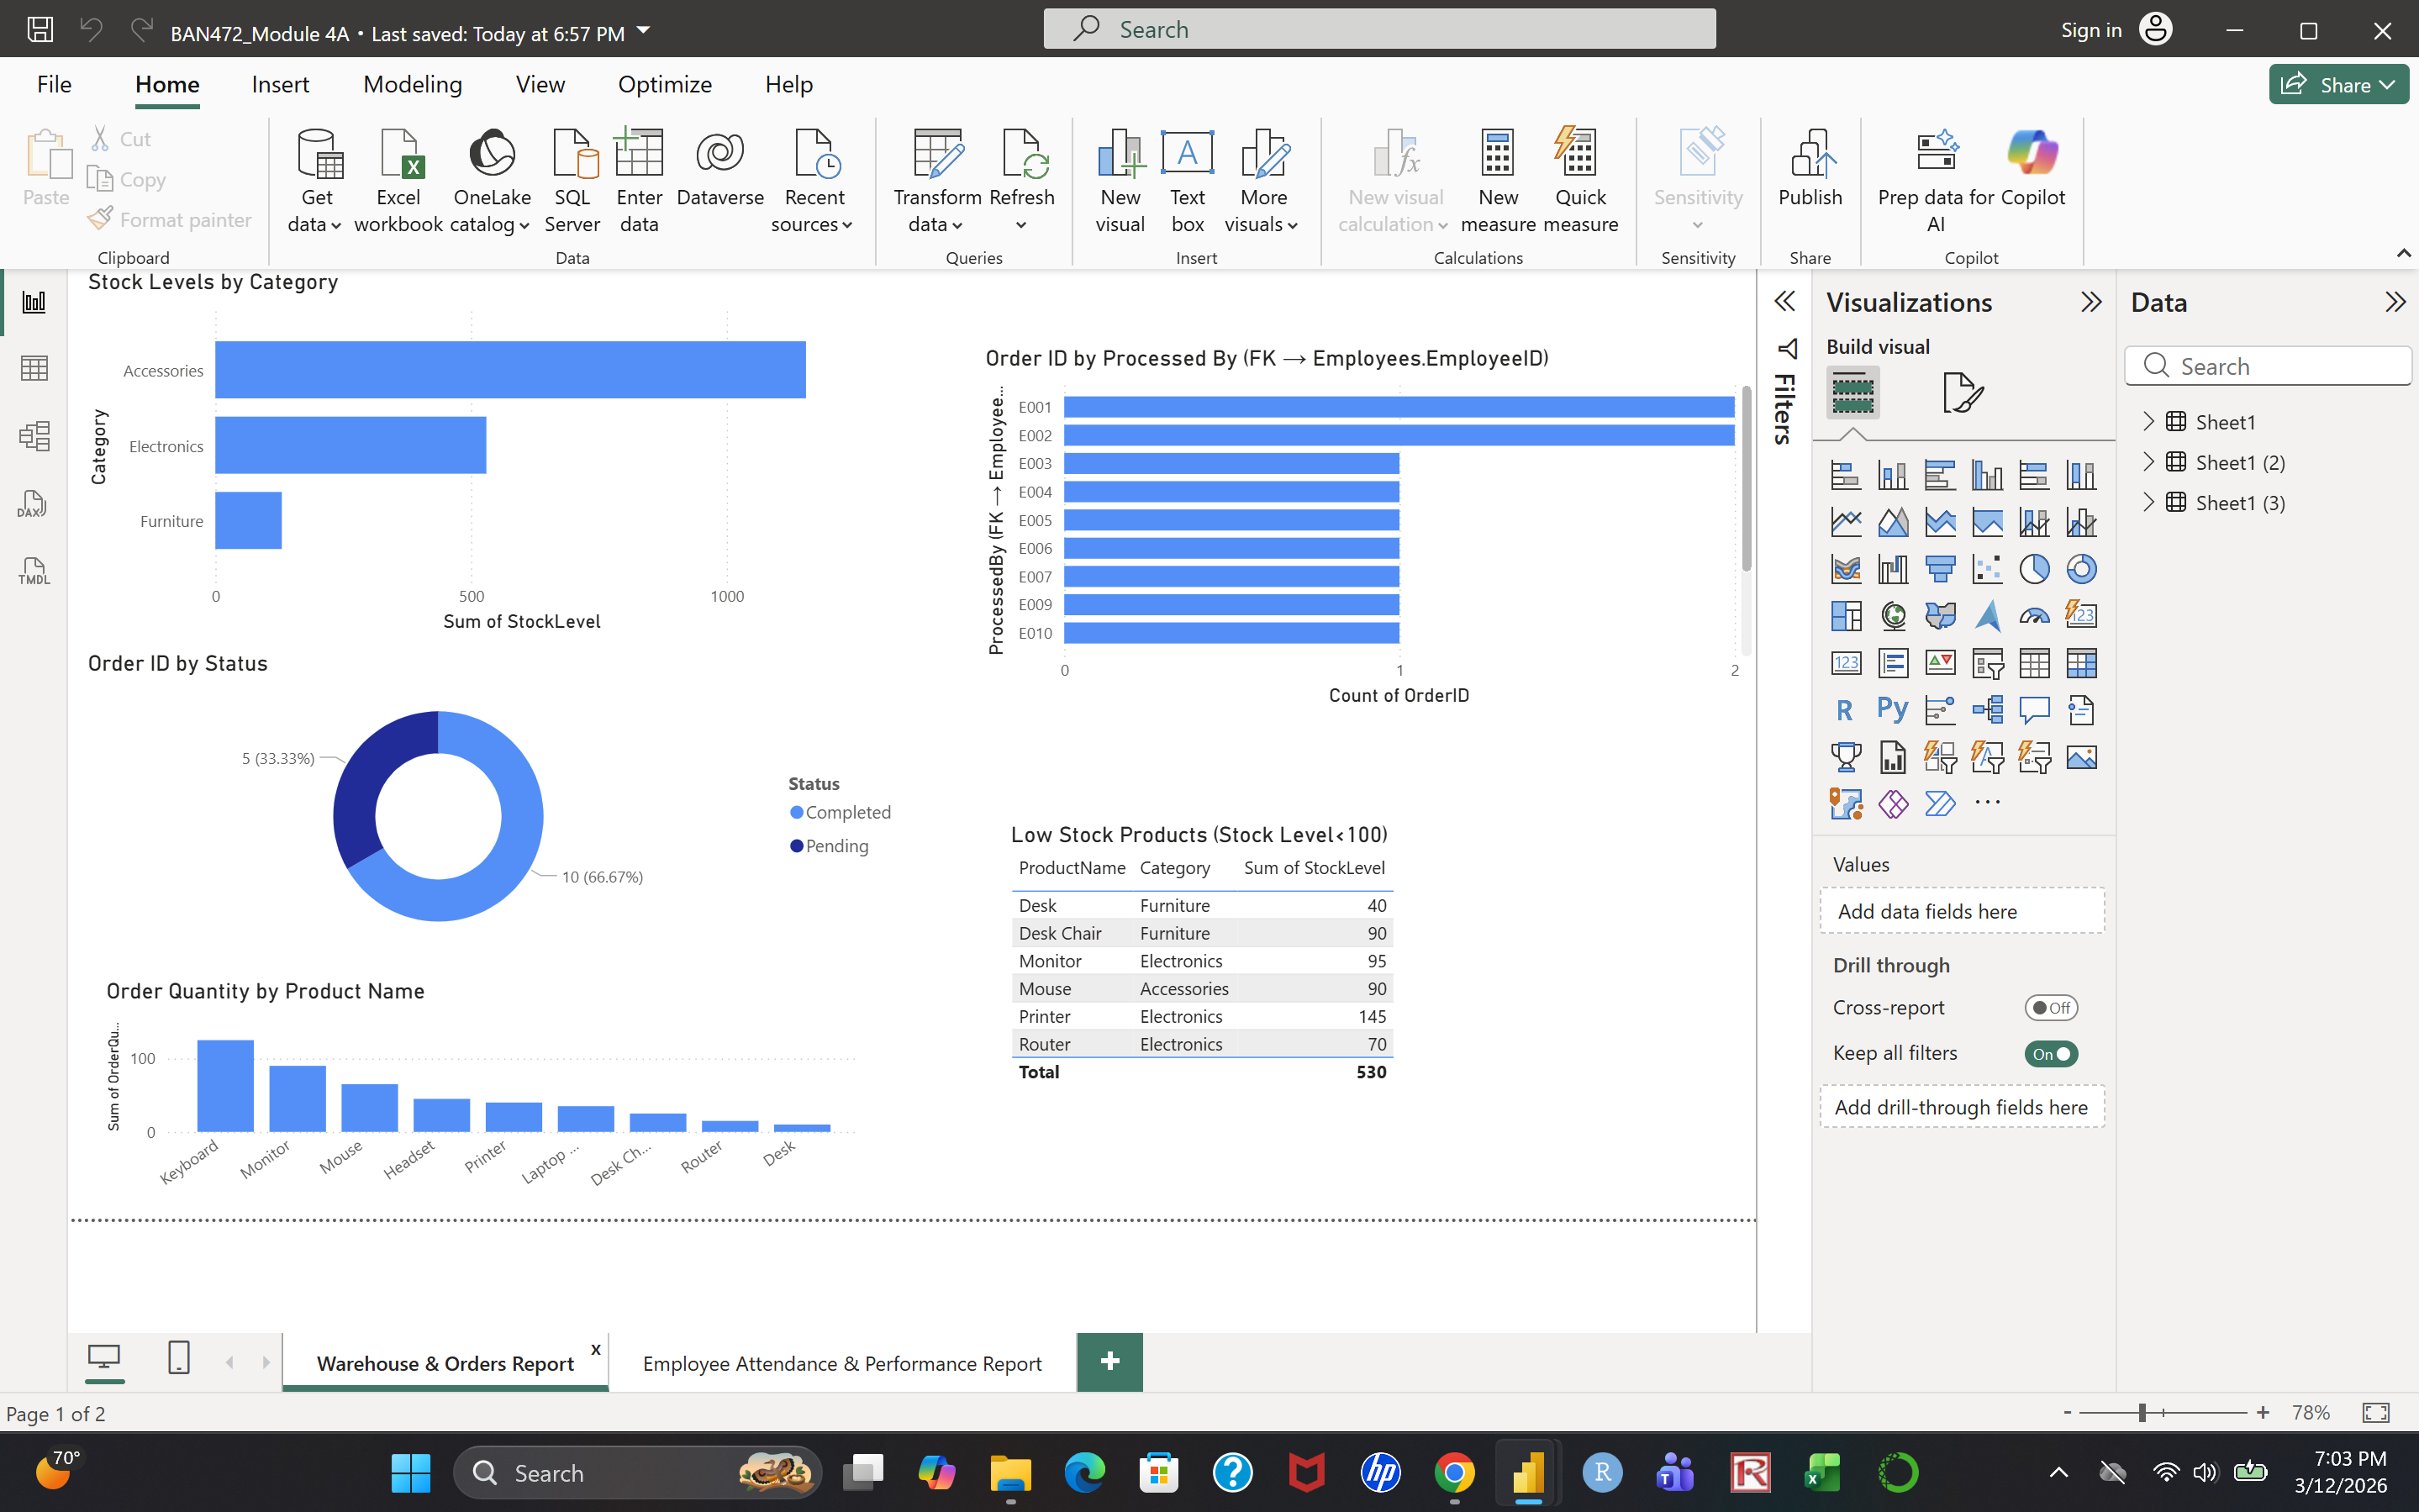

What the dashboard file says about the page in this screenshot:
{"tool":"powerbi","page":{"name":"Warehouse & Orders Report","canvas":[1280,720],"ordinal":0},"visuals":[{"type":"clusteredBarChart","title":"Stock Levels by Category","fields":{"Category":["Sheet1 (2).Category"],"Y":["Sum(Sheet1 (2).StockLevel)"]},"box":[10.7,0,584.9,280.2],"z":0},{"type":"donutChart","title":"Order ID by Status","fields":{"Category":["Sheet1 (2).Status"],"Y":["CountNonNull(Sheet1 (2).OrderID)"]},"box":[10.7,289.4,629.3,232.7],"z":1000},{"type":"clusteredColumnChart","title":"Order Quantity by Product Name","fields":{"Category":["Sheet1 (2).ProductName"],"Y":["Sum(Sheet1 (2).OrderQuantity)"]},"box":[24.5,537.4,581.8,171.5],"z":2000},{"type":"barChart","title":"Order ID by Processed By (FK → Employees.EmployeeID)","fields":{"Category":["Sheet1 (2).ProcessedBy (FK → Employees.EmployeeID)"],"Y":["CountNonNull(Sheet1 (2).OrderID)"]},"box":[690.5,56.7,591,280.2],"z":3000},{"type":"tableEx","title":"Low Stock Products (Stock Level<100)","fields":{"Values":["Sheet1 (2).ProductName","Sheet1 (2).Category","Sum(Sheet1 (2).StockLevel)"]},"box":[710.4,419.5,503.7,289.4],"z":4000}]}

Visuals, with their boxes on the page's 1280x720 design canvas (x1, y1, x2, y2). These are canvas units, not pixel positions in the 2419x1512 screenshot, which may show the page scaled, cropped or inside an application window:
"Stock Levels by Category" clusteredBarChart: <bbox>11, 0, 596, 280</bbox>
"Order ID by Status" donutChart: <bbox>11, 289, 640, 522</bbox>
"Order Quantity by Product Name" clusteredColumnChart: <bbox>24, 537, 606, 709</bbox>
"Order ID by Processed By (FK → Employees.EmployeeID)" barChart: <bbox>690, 57, 1282, 337</bbox>
"Low Stock Products (Stock Level<100)" tableEx: <bbox>710, 420, 1214, 709</bbox>
